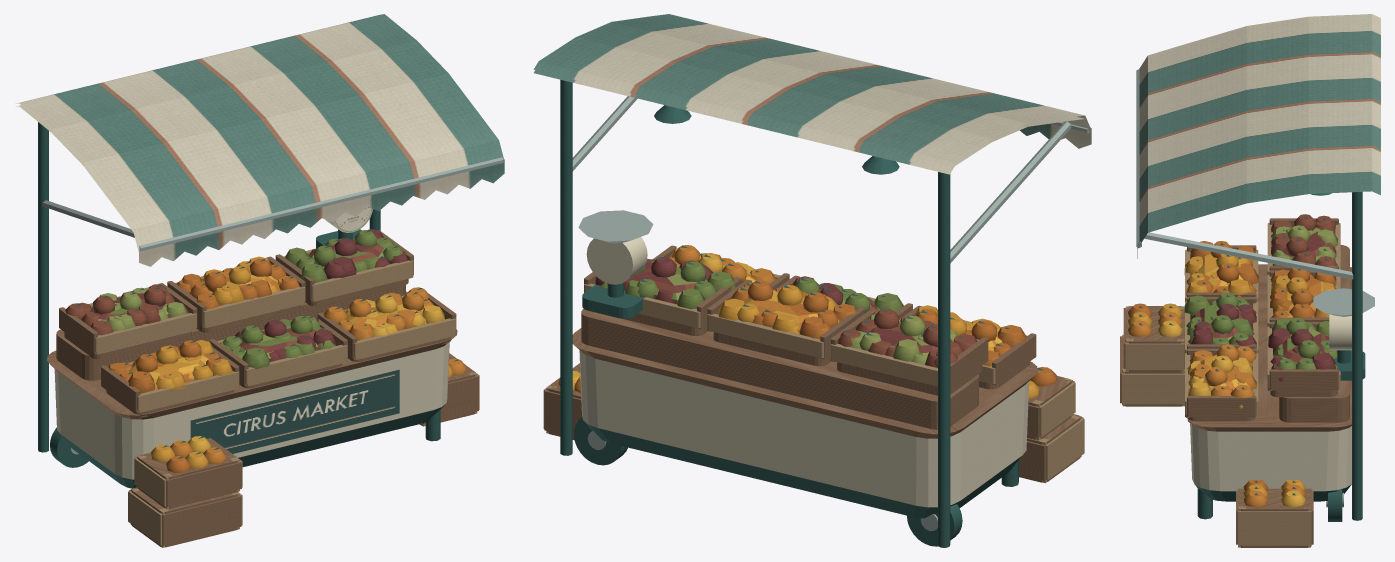
File: ProduceStall.fbx
3 renders of one model, left to right at view 1: azimuth 30°, elevation 25°; view 2: azimuth 150°, elevation 25°; view 3: azimuth 270°, elevation 25°, orthographic. The views are drawn at different scales.
Parts seen in each view (by area): view 1: ProduceStall Close, ProduceStall Street, ProduceStall Horizon; view 2: ProduceStall Close, ProduceStall Street, ProduceStall Horizon; view 3: ProduceStall Close, ProduceStall Street, ProduceStall Horizon.
Boxes of the visible parts, box(x1,y1,x2,y2) form: ProduceStall Close: box(16, 14, 504, 547); ProduceStall Street: box(49, 229, 479, 545); ProduceStall Horizon: box(51, 230, 475, 547); ProduceStall Close: box(533, 14, 1091, 547); ProduceStall Street: box(543, 245, 1084, 545); ProduceStall Horizon: box(547, 257, 1080, 545); ProduceStall Close: box(1120, 14, 1380, 547); ProduceStall Street: box(1120, 218, 1351, 545); ProduceStall Horizon: box(1122, 223, 1351, 547).
Bounding box in the file's own units: 300 × 261 × 177.
